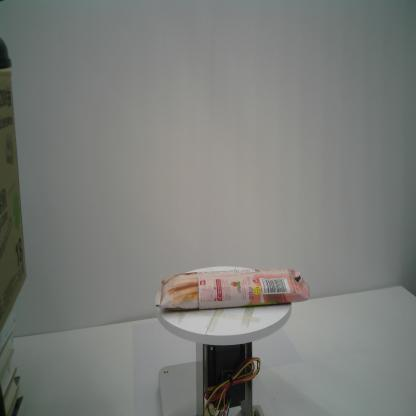Dessert: (152, 266, 311, 313)
